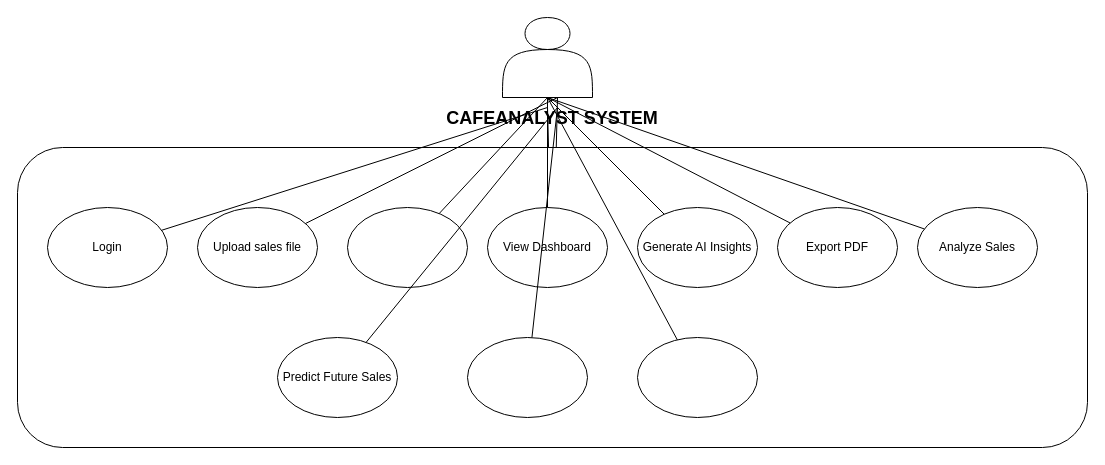
The diagram is 1105 pixels wide and 465 high, and some of its shapes have lost their labels. The centre of each missing label's shape, as x and y in pixels:
"Cafe owner" goes at point (547, 57).
"Generate Report" goes at point (527, 377).
"Logout" goes at point (697, 377).
"View Chart" goes at point (407, 247).
